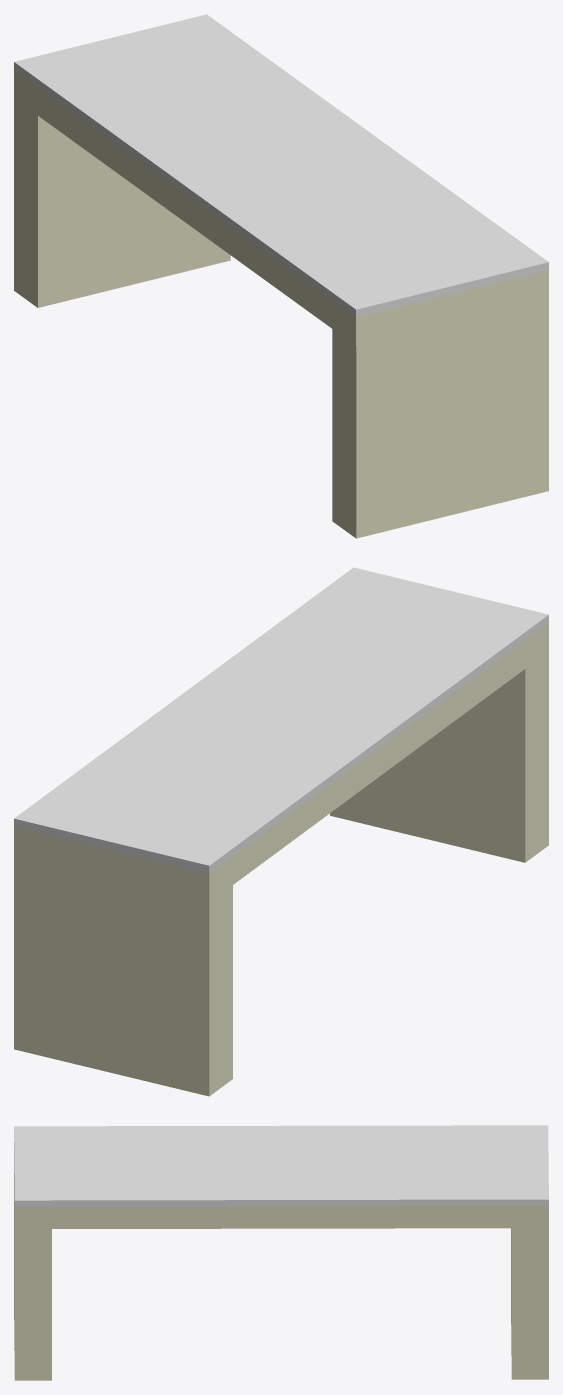
Rendered from table.fbx.
The picture shows the model from 3 angles, top to bottom: view 1: azimuth 30°, elevation 25°; view 2: azimuth 150°, elevation 25°; view 3: azimuth 270°, elevation 25°; orthographic projection. The views are drawn at different scales.
Parts seen in each view (by area): view 1: Cube.026, Cube.025, Cube.027, Cube.028; view 2: Cube.026, Cube.027, Cube.025, Cube.028; view 3: Cube.026, Cube.028, Cube.025, Cube.027.
Part boxes in pixels (x1,y1,x2,y2): Cube.026: (14,14,548,317); Cube.025: (332,298,548,538); Cube.027: (14,98,230,307); Cube.028: (14,70,548,345); Cube.026: (14,567,548,873); Cube.027: (14,855,232,1096); Cube.025: (330,651,548,862); Cube.028: (14,623,548,902); Cube.026: (14,1125,548,1206); Cube.028: (14,1148,548,1229); Cube.025: (14,1171,51,1380); Cube.027: (511,1228,548,1379).
Bounding box in the file's own units: 190 × 212 × 570.
